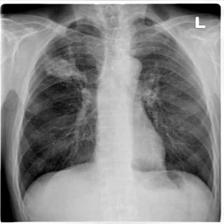tuberculosis: (15, 11, 216, 200)
